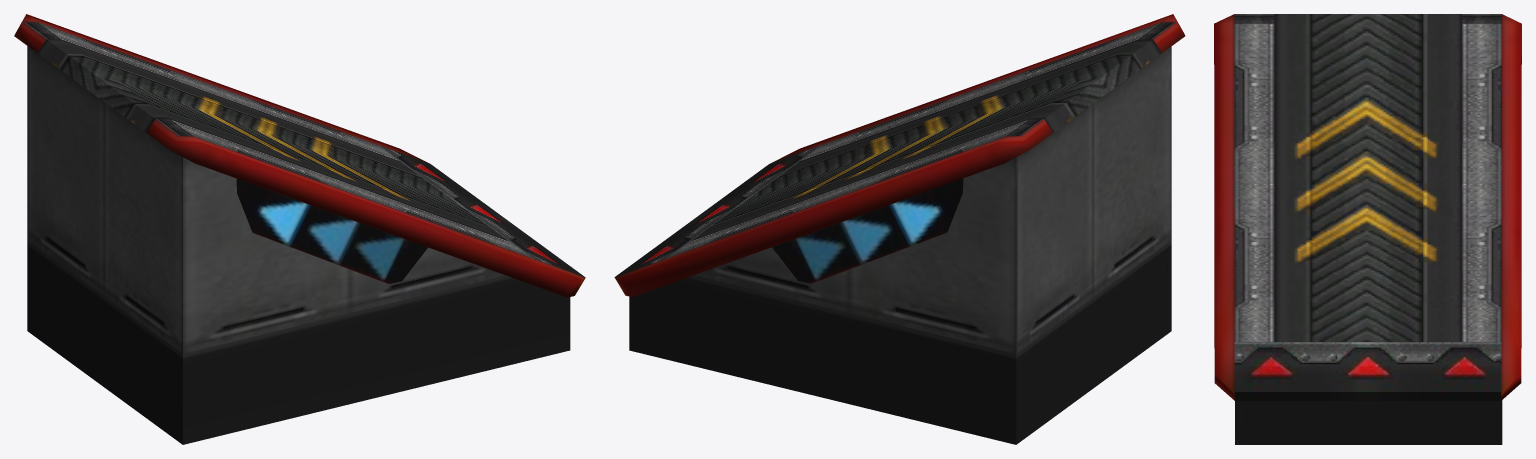
The picture shows the model from 3 angles, left to right: view 1: azimuth 30°, elevation 25°; view 2: azimuth 150°, elevation 25°; view 3: azimuth 270°, elevation 25°; orthographic projection. The views are drawn at different scales.
Visible parts, largest first — view 1: node_7fac02ec_12a8_45ac_bbb5_7286b3b9e57b_mesh0; view 2: node_7fac02ec_12a8_45ac_bbb5_7286b3b9e57b_mesh0; view 3: node_7fac02ec_12a8_45ac_bbb5_7286b3b9e57b_mesh0.
Boxes of the visible parts, box(x1,y1,x2,y2) form: node_7fac02ec_12a8_45ac_bbb5_7286b3b9e57b_mesh0: box(14, 14, 585, 444); node_7fac02ec_12a8_45ac_bbb5_7286b3b9e57b_mesh0: box(614, 14, 1185, 444); node_7fac02ec_12a8_45ac_bbb5_7286b3b9e57b_mesh0: box(1214, 14, 1521, 444).
Bounding box in the file's own units: 1.65 × 1.18 × 1.23.
Materials: 3 (3 with a texture image).
